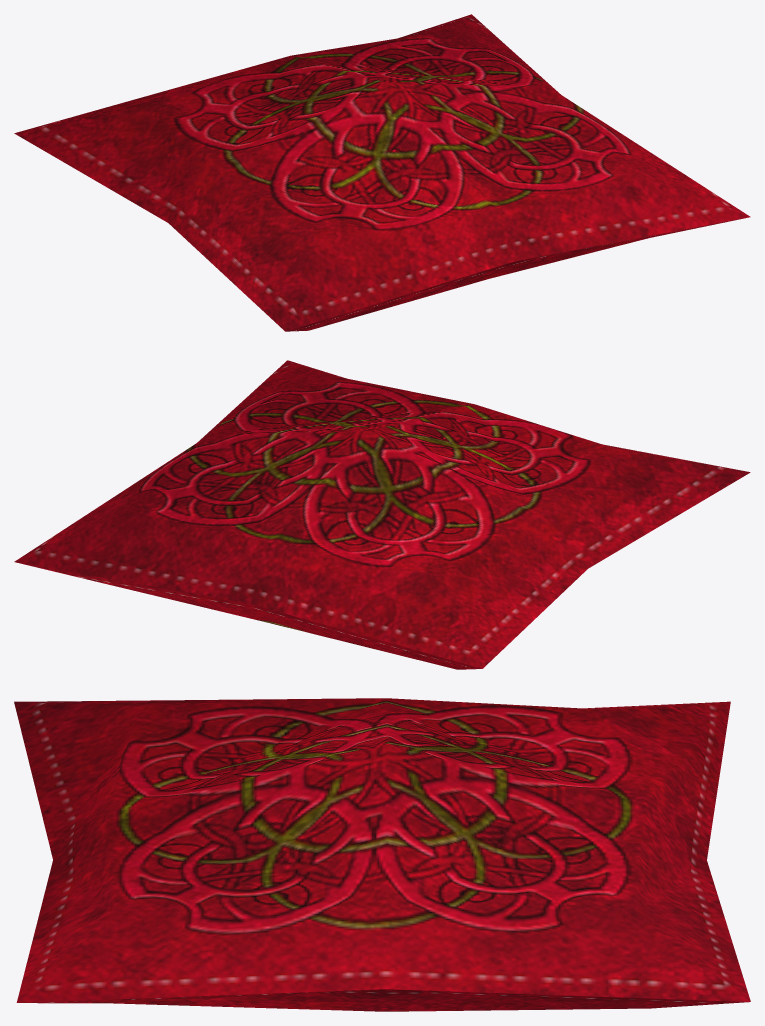
Rendered from M_Home_Garden_Pillow01.fbx.
3 views of the same model, one above another, from view 1: azimuth 30°, elevation 25°; view 2: azimuth 150°, elevation 25°; view 3: azimuth 270°, elevation 25° (orthographic). The views are drawn at different scales.
Visible parts, largest first — view 1: M_Home_Garden_Pillow01; view 2: M_Home_Garden_Pillow01; view 3: M_Home_Garden_Pillow01.
Boxes of the visible parts, box(x1,y1,x2,y2) form: M_Home_Garden_Pillow01: box(14, 14, 750, 331); M_Home_Garden_Pillow01: box(14, 360, 750, 669); M_Home_Garden_Pillow01: box(14, 698, 750, 1011).
Size of the model in its own units: 59.71 by 17.87 by 61.71.
